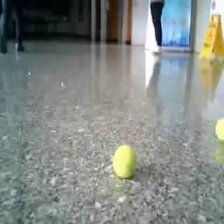tennis: (111, 145, 139, 179)
